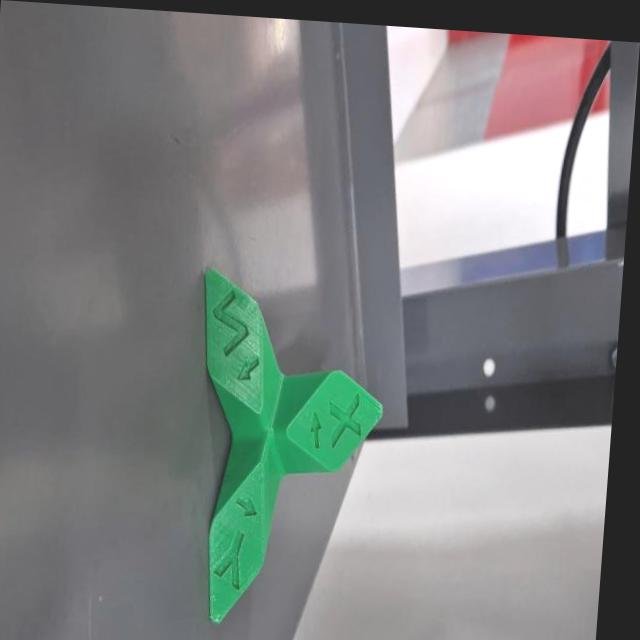eje: (172, 261, 396, 640)
